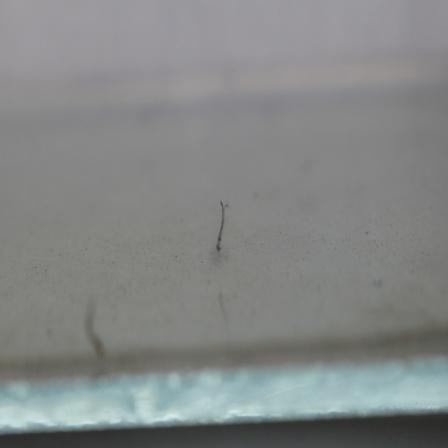Jentik-Nyamuk: (213, 198, 230, 258)
